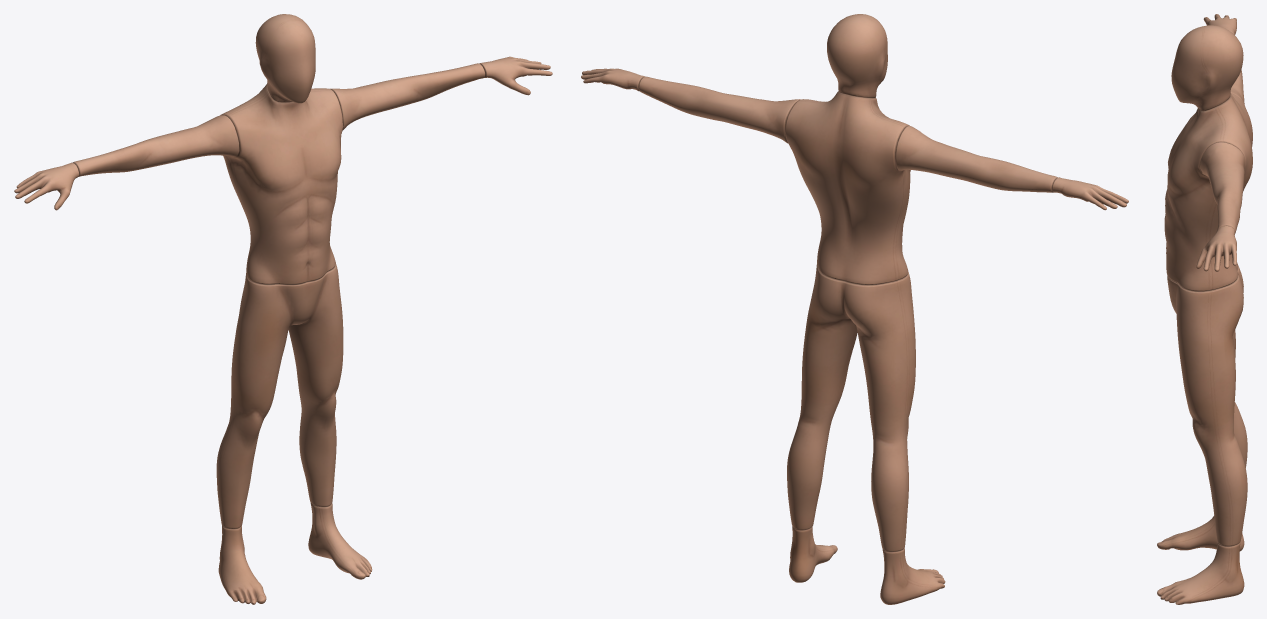
The model's file is body.glb.
The picture shows the model from 3 angles, left to right: view 1: azimuth 30°, elevation 25°; view 2: azimuth 150°, elevation 25°; view 3: azimuth 270°, elevation 25°; orthographic projection. The views are drawn at different scales.
Visible parts, largest first — view 1: Ch36; view 2: Ch36; view 3: Ch36.
Part boxes in pixels (left/top/right/bottom): Ch36: left=14, top=14, right=552, bottom=604; Ch36: left=581, top=14, right=1128, bottom=604; Ch36: left=1157, top=14, right=1252, bottom=604.
Bounding box in the file's own units: 4.98 × 4.94 × 0.7902.
1 material, 1 textured.
